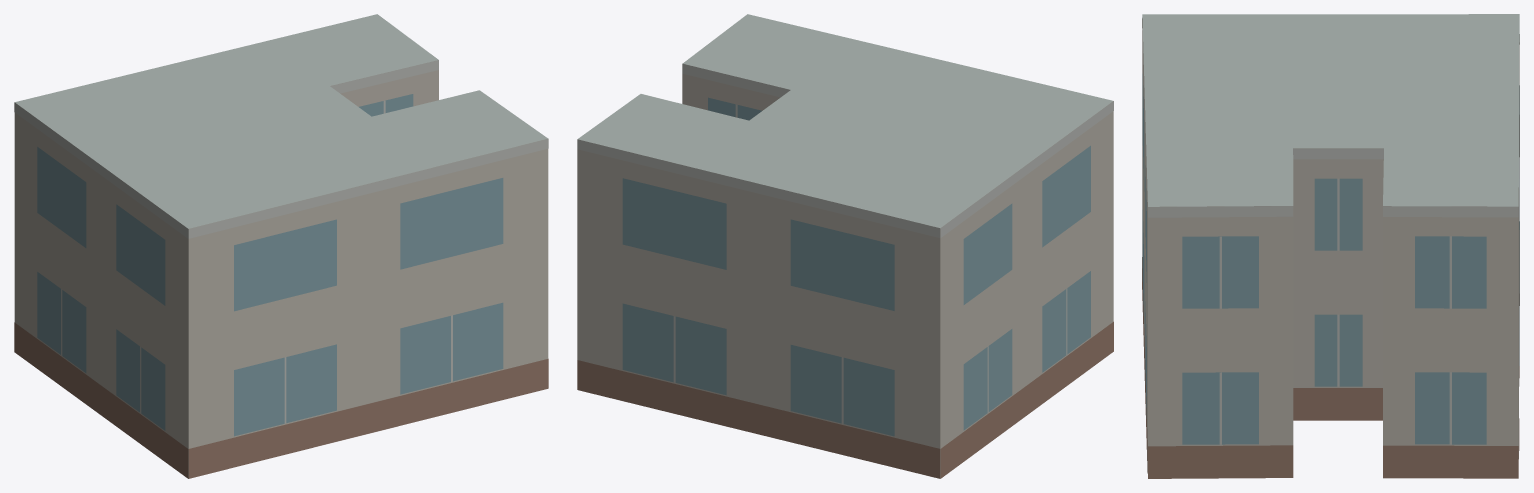
The model's file is survey-upis-32831588.glb.
3 views of the same model, side by side, from view 1: azimuth 30°, elevation 25°; view 2: azimuth 150°, elevation 25°; view 3: azimuth 270°, elevation 25° (orthographic). The views are drawn at different scales.
Parts seen in each view (by area): view 1: survey-upis-32831588.tmp; view 2: survey-upis-32831588.tmp; view 3: survey-upis-32831588.tmp.
Part boxes in pixels (x1=…): survey-upis-32831588.tmp: x1=14, y1=14, x2=548, y2=478; survey-upis-32831588.tmp: x1=577, y1=14, x2=1113, y2=478; survey-upis-32831588.tmp: x1=1142, y1=14, x2=1519, y2=478.
Size of the model in its own units: 9.29 by 6.1 by 7.68.
